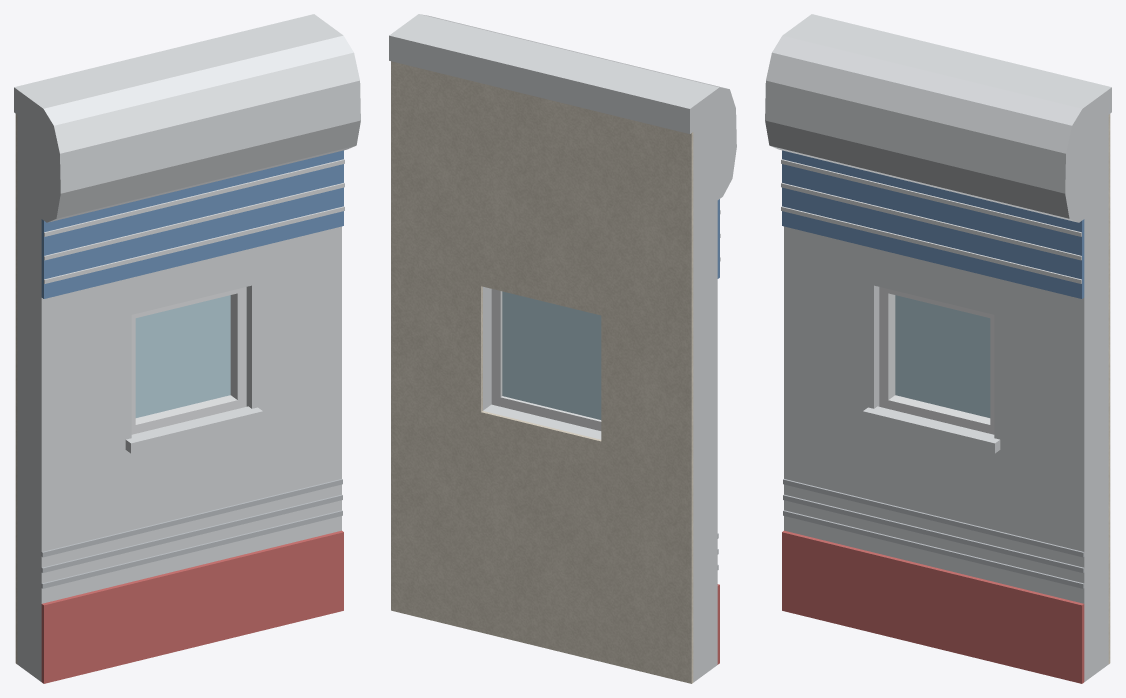
Rendered from wall_diner_small_window.glb.
3 renders of one model, left to right at view 1: azimuth 30°, elevation 25°; view 2: azimuth 150°, elevation 25°; view 3: azimuth 330°, elevation 25°, orthographic.
Parts seen in each view (by area): view 1: wall_diner_small_window_steel, wall_diner_small_window_enamel_red, wall_diner_small_window_enamel, wall_diner_small_window_glass, wall_diner_small_window_steel_dark, wall_diner_small_window_frame, wall_diner_small_window_plaster; view 2: wall_diner_small_window_plaster, wall_diner_small_window_steel, wall_diner_small_window_glass, wall_diner_small_window_frame; view 3: wall_diner_small_window_steel, wall_diner_small_window_enamel_red, wall_diner_small_window_enamel, wall_diner_small_window_glass, wall_diner_small_window_steel_dark, wall_diner_small_window_frame, wall_diner_small_window_plaster.
Part boxes in pixels (x1,y1,x2,y2): wall_diner_small_window_steel: (14,14,360,681); wall_diner_small_window_enamel_red: (41,530,343,683); wall_diner_small_window_enamel: (41,150,343,298); wall_diner_small_window_glass: (135,295,230,417); wall_diner_small_window_steel_dark: (41,479,342,588); wall_diner_small_window_frame: (131,287,246,434); wall_diner_small_window_plaster: (15,114,17,663); wall_diner_small_window_plaster: (391,61,693,683); wall_diner_small_window_steel: (389,14,736,682); wall_diner_small_window_glass: (502,291,601,419); wall_diner_small_window_frame: (491,289,601,430); wall_diner_small_window_steel: (765,14,1111,681); wall_diner_small_window_enamel_red: (782,530,1084,683); wall_diner_small_window_enamel: (782,150,1084,298); wall_diner_small_window_glass: (895,295,990,417); wall_diner_small_window_steel_dark: (783,479,1084,588); wall_diner_small_window_frame: (879,287,994,434); wall_diner_small_window_plaster: (1108,114,1110,663).
Bounding box in the file's own units: 2 × 3.66 × 0.54.
Materials: 7 (1 with a texture image).
